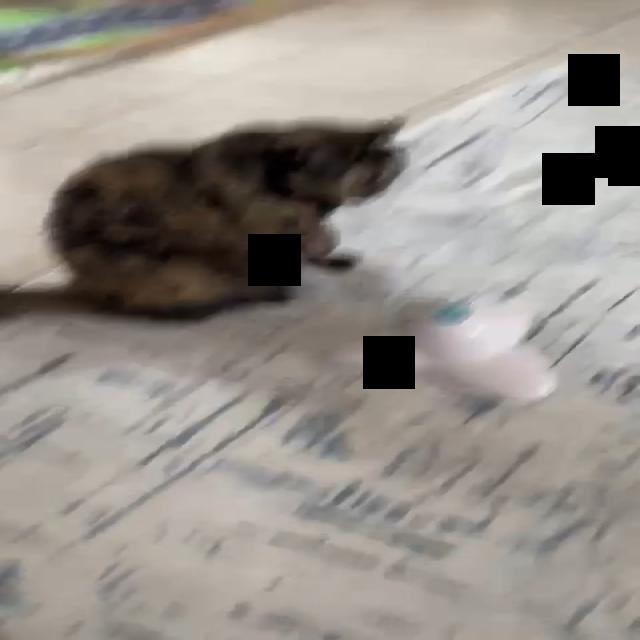authorized: (40, 114, 409, 321)
